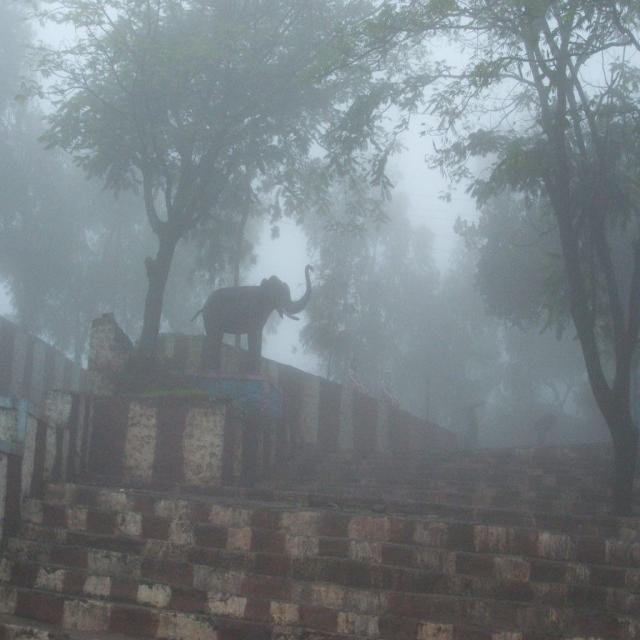elephant: (190, 284, 300, 364)
